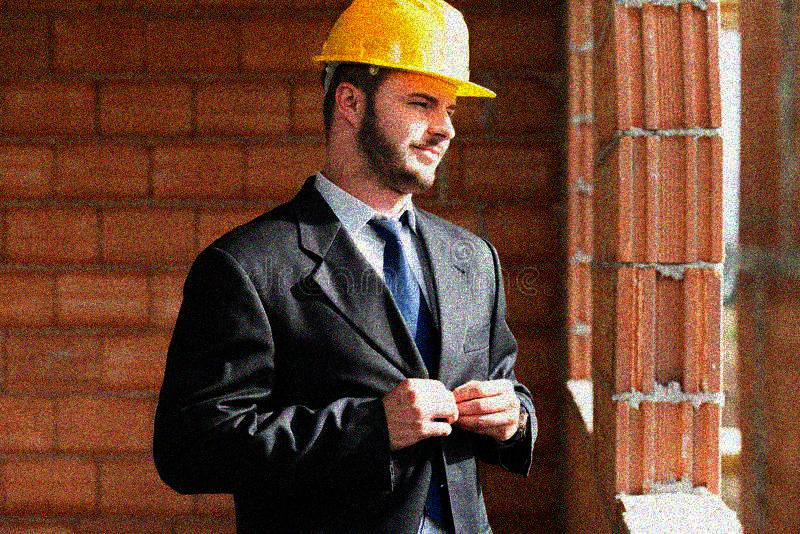helmet: (311, 1, 499, 195)
